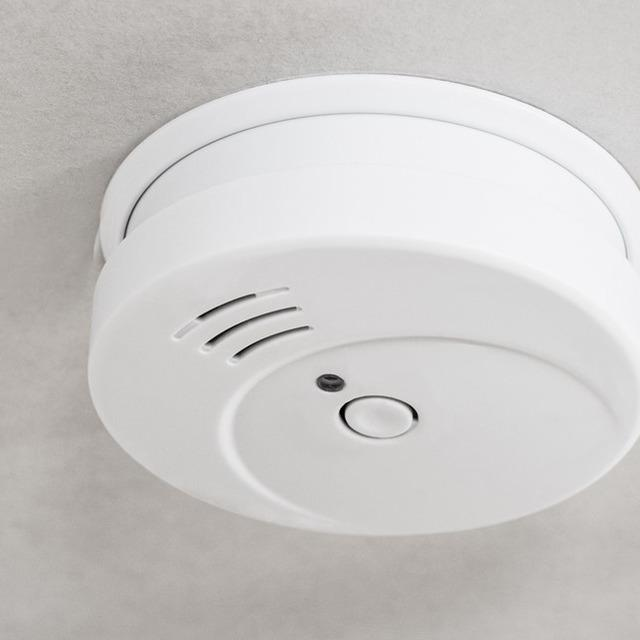Smoke-Detector: (91, 74, 640, 540)
